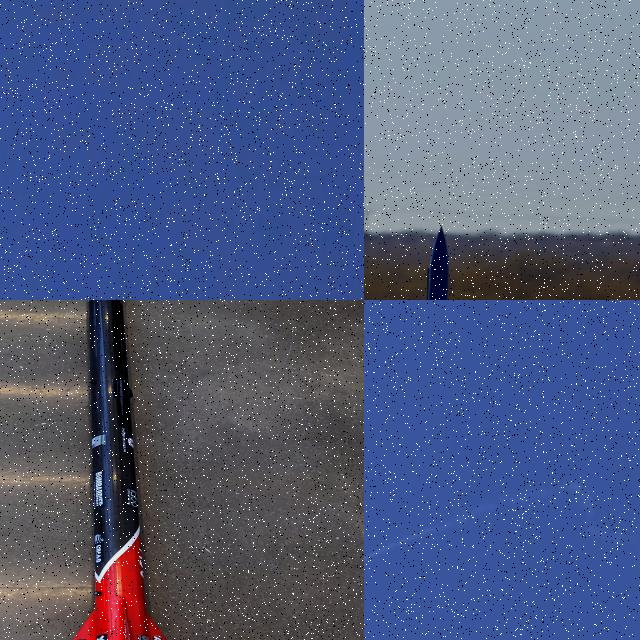Rocket: (72, 300, 167, 640), (406, 224, 460, 300)
